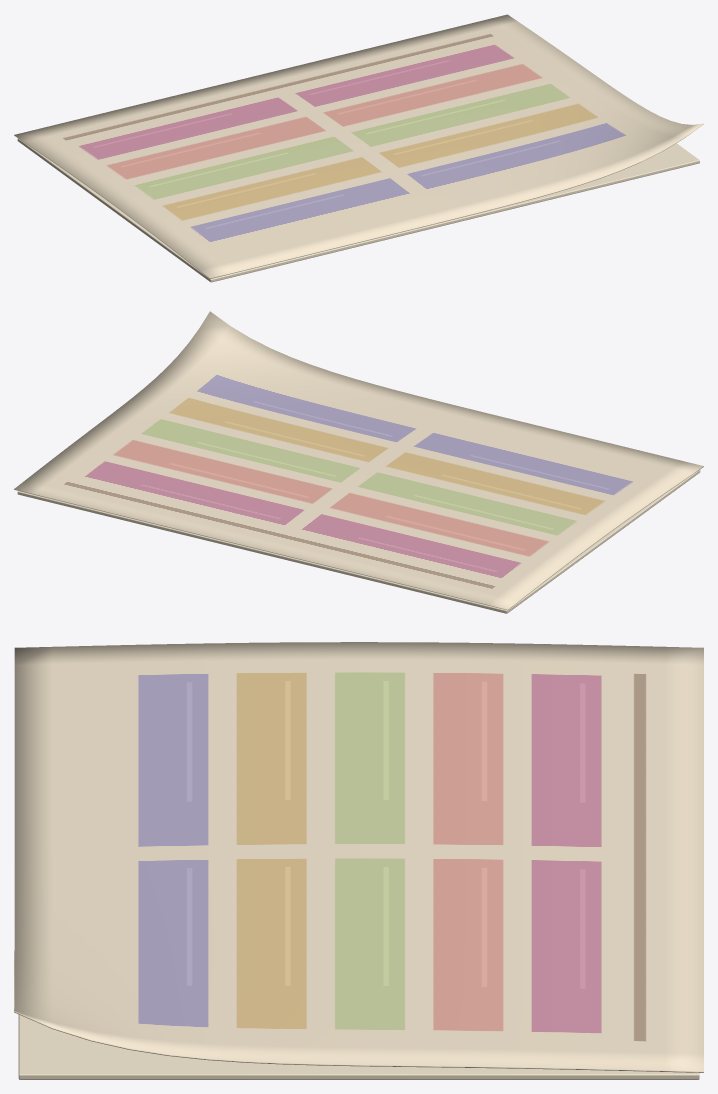
File: 17_performance_programme.glb
The picture shows the model from 3 angles, top to bottom: view 1: azimuth 30°, elevation 25°; view 2: azimuth 150°, elevation 25°; view 3: azimuth 270°, elevation 25°; orthographic projection. The views are drawn at different scales.
Parts seen in each view (by area): view 1: 17_performance_programme__printed_top_sheet, 17_performance_programme__folded_lower_pages; view 2: 17_performance_programme__printed_top_sheet, 17_performance_programme__folded_lower_pages; view 3: 17_performance_programme__printed_top_sheet, 17_performance_programme__folded_lower_pages.
Boxes of the visible parts, box(x1,y1,x2,y2) form: 17_performance_programme__printed_top_sheet: box(14, 14, 703, 278); 17_performance_programme__folded_lower_pages: box(17, 138, 699, 282); 17_performance_programme__printed_top_sheet: box(14, 311, 703, 610); 17_performance_programme__folded_lower_pages: box(17, 470, 700, 613); 17_performance_programme__printed_top_sheet: box(14, 642, 703, 1072); 17_performance_programme__folded_lower_pages: box(18, 1014, 699, 1079).
Size of the model in its own units: 0.2401 by 0.0187 by 0.1651.
2 materials, 2 textured.
